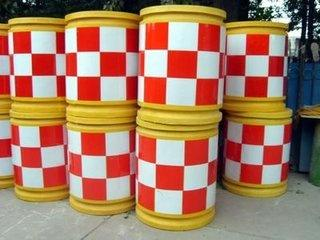cone_barrel: (133, 113, 220, 231), (137, 3, 225, 118), (63, 2, 137, 110), (66, 107, 134, 215), (221, 108, 291, 196), (224, 17, 289, 110), (9, 106, 65, 201), (7, 14, 64, 107)
